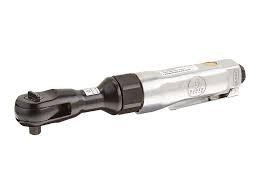wrench: (11, 55, 247, 136)
